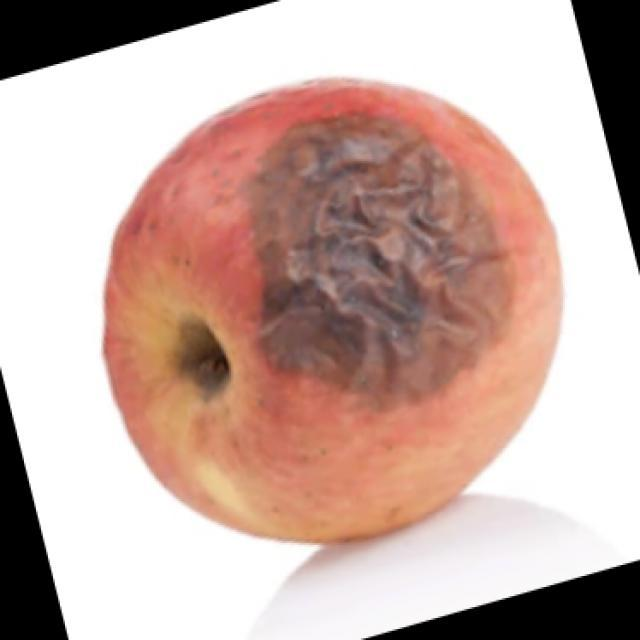Rotten: (124, 79, 554, 534)
